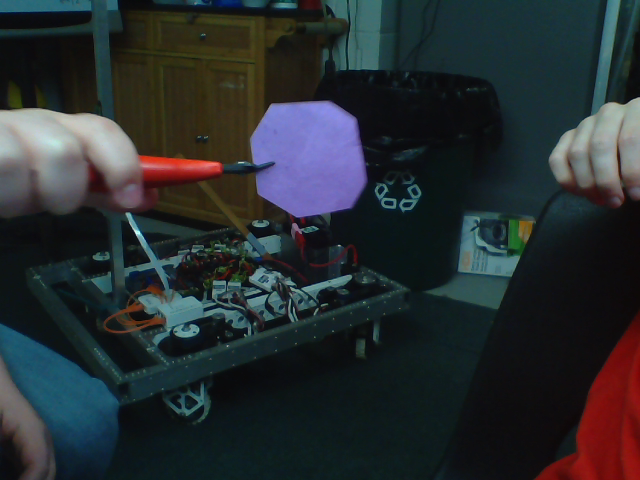ball: (253, 102, 368, 215)
